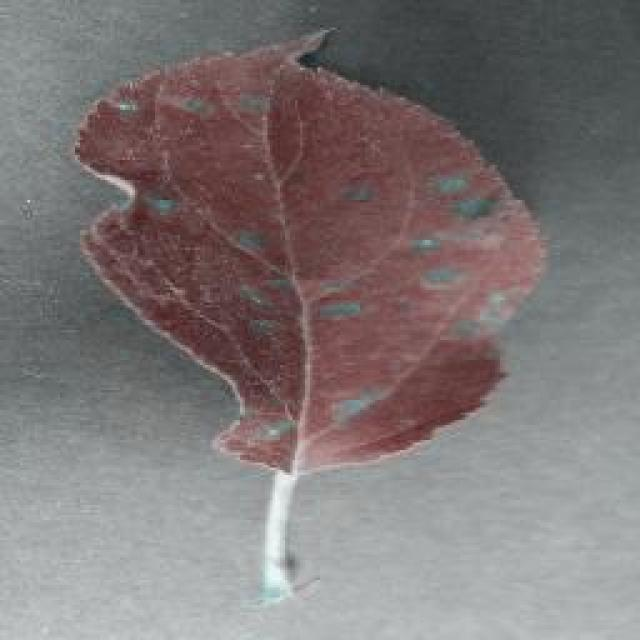apple scab disease: (70, 22, 548, 602)
